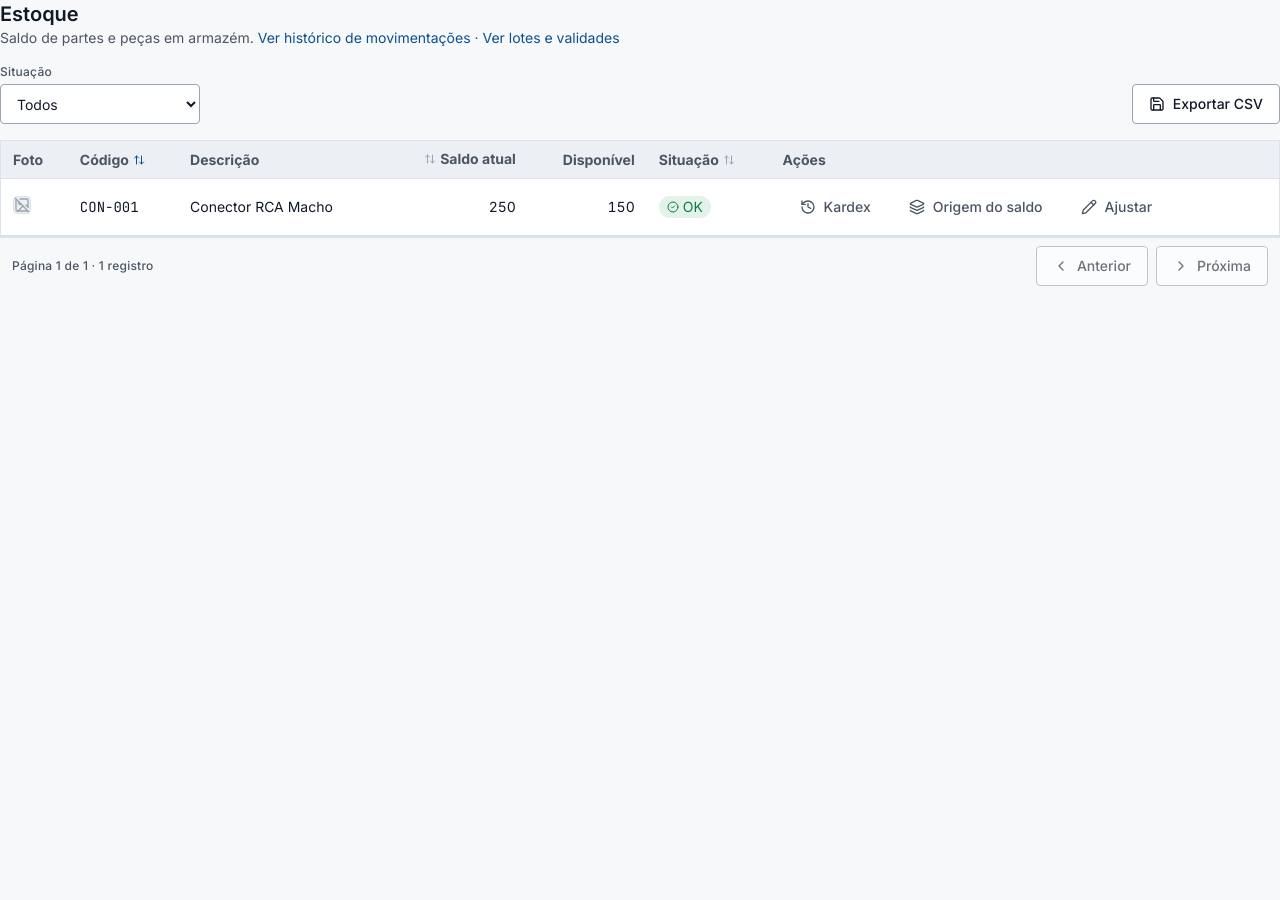
Test: Estoque › itens rastreados (v1.2) › kardex lista os movimentos com link para o documento de origem
Expected: the text "CON-001" is shown, [80, 198, 139, 216]
Click the button with aria-label "Kardex de CON-001" at x=835, y=207, box [783, 187, 888, 227]
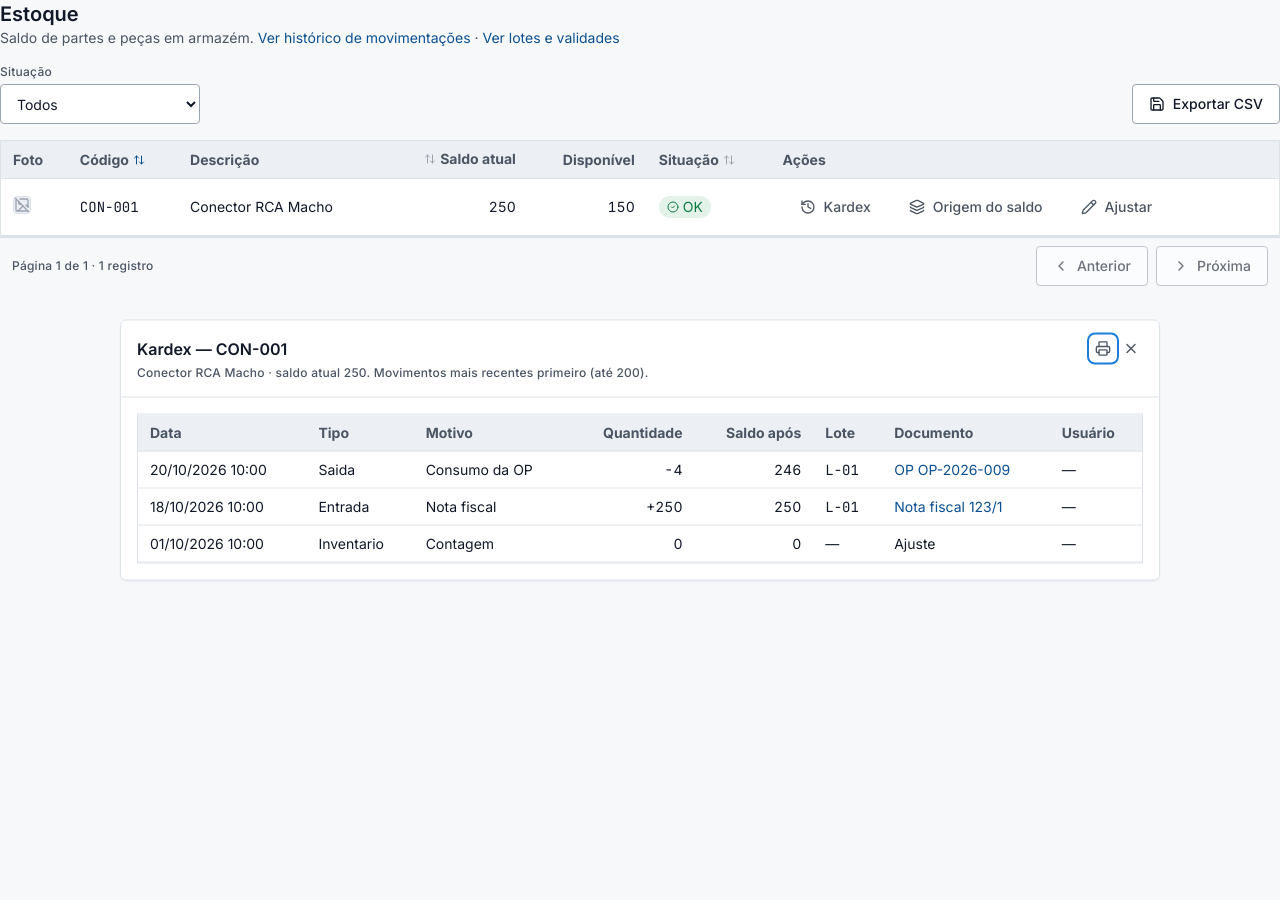
Now the text "Ajuste" is shown, box [882, 525, 1050, 562]
Now the text "+250" is shown, box [571, 488, 695, 525]
Now the text "246" is shown, box [694, 451, 813, 488]
